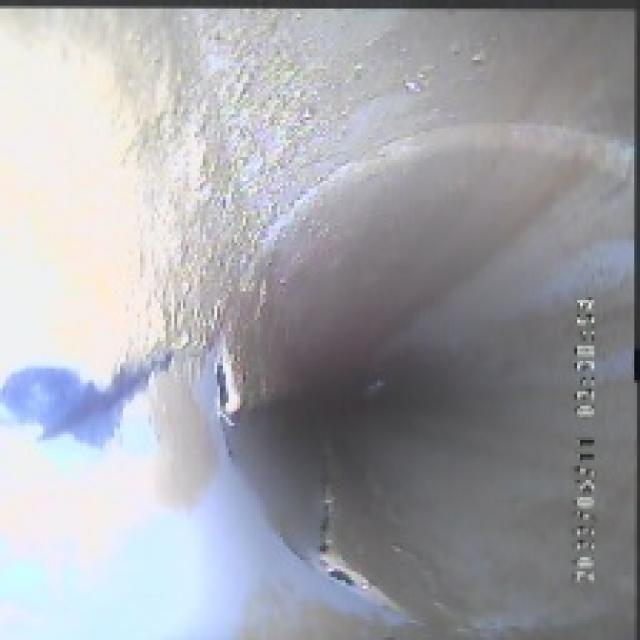pipe_surface_damage: (200, 311, 469, 626)
